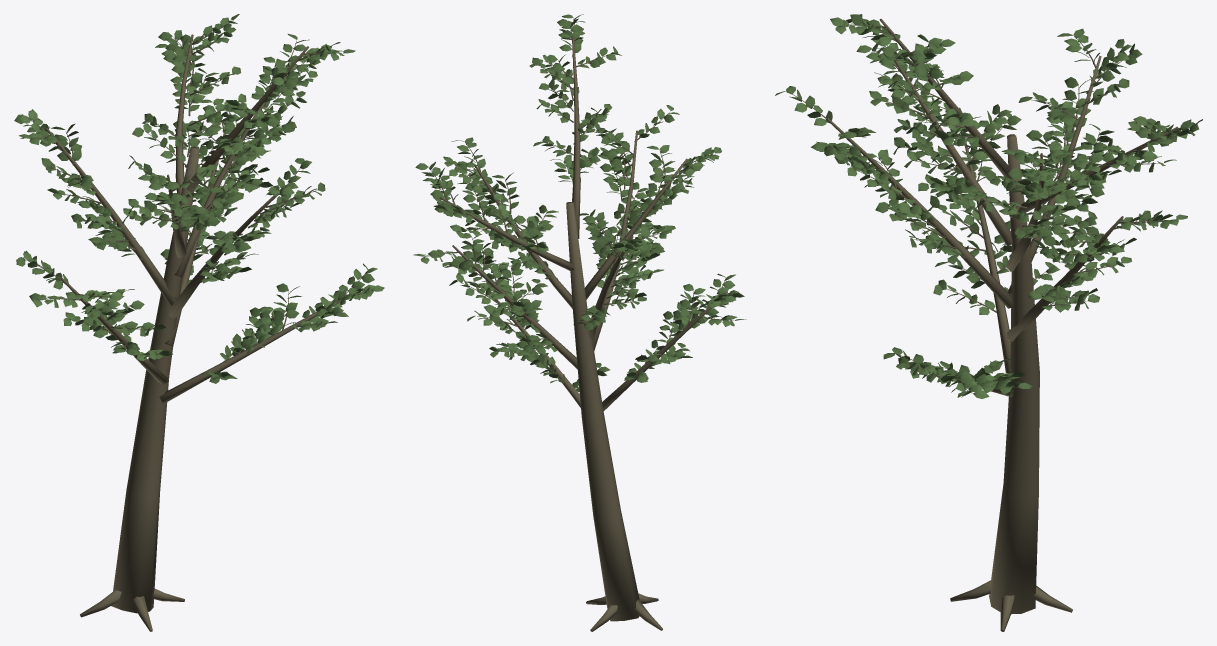
Rendered from CheneVert_1_LOD0.fbx.
The picture shows the model from 3 angles, left to right: view 1: azimuth 30°, elevation 25°; view 2: azimuth 150°, elevation 25°; view 3: azimuth 270°, elevation 25°; orthographic projection. The views are drawn at different scales.
Visible parts, largest first — view 1: CheneVert_1_LOD0; view 2: CheneVert_1_LOD0; view 3: CheneVert_1_LOD0.
Boxes of the visible parts, box(x1,y1,x2,y2) form: CheneVert_1_LOD0: box(14, 14, 384, 631); CheneVert_1_LOD0: box(413, 14, 746, 631); CheneVert_1_LOD0: box(775, 14, 1202, 631).
Size of the model in its own units: 422 by 692 by 406.
